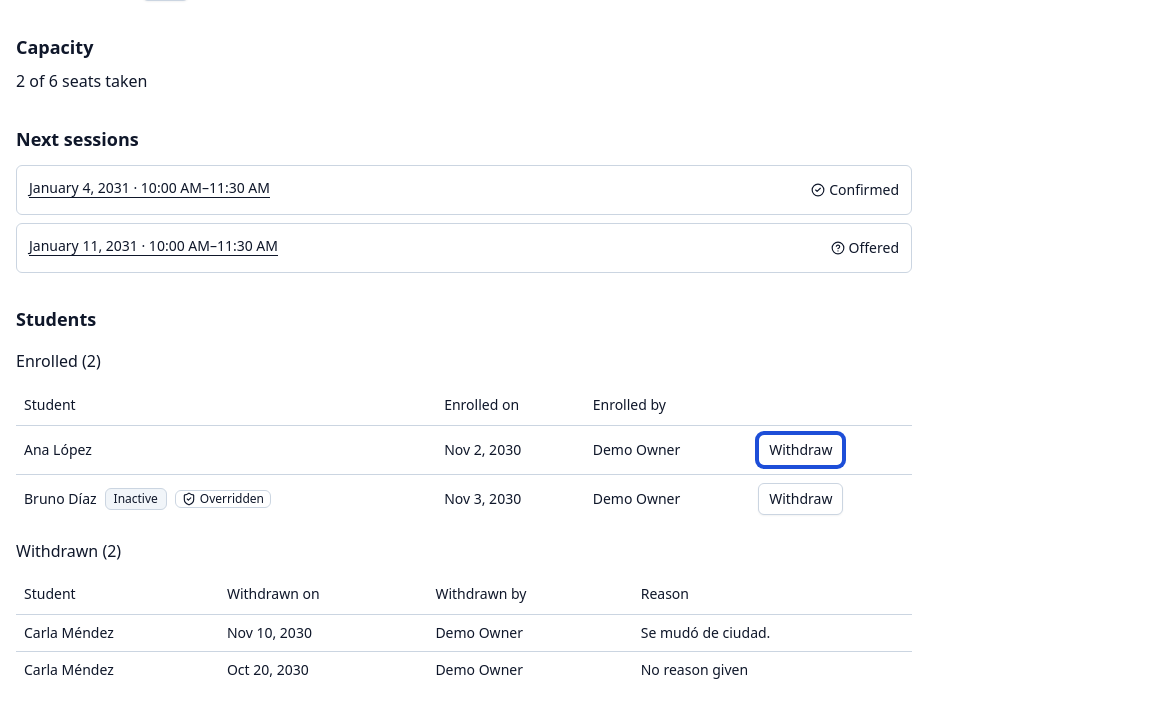
Test: the dialogs (D) › moves the focus to the notice after a withdrawal, as the row moves
(page scrolled)
Click the button "Withdraw" in the row of "Ana López". click: (801, 450)
box: [758,434,844,466]
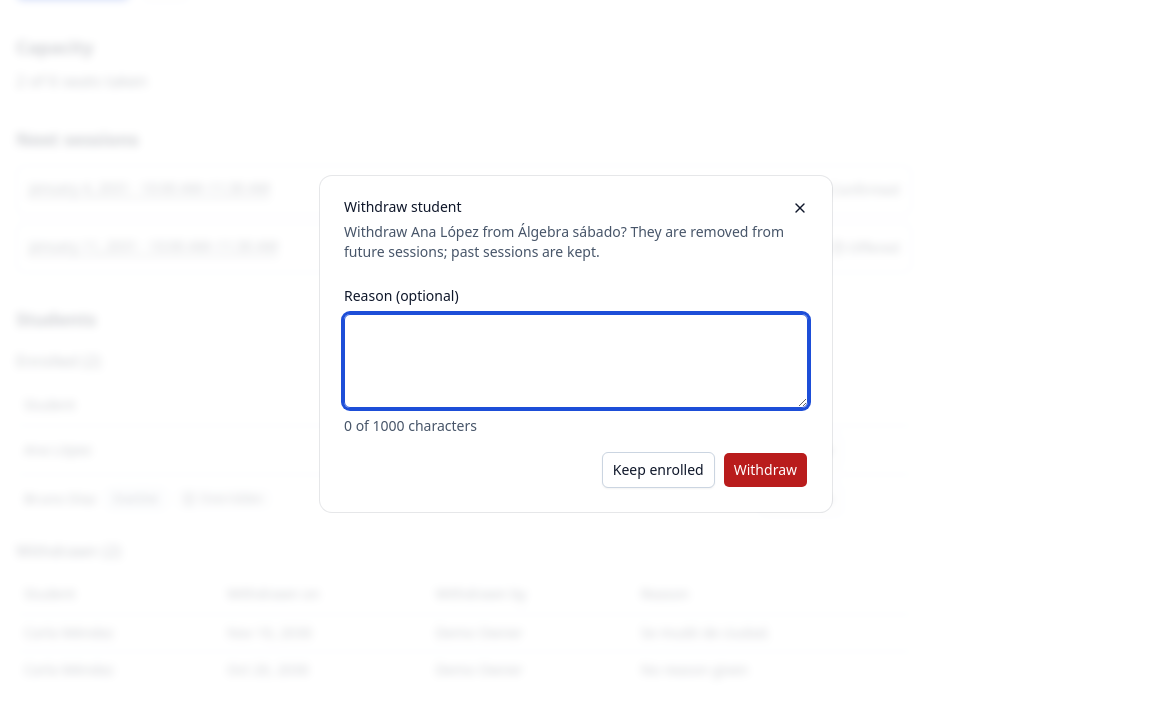
Click the button "Withdraw". click: (765, 470)
box: [723,452,808,488]
(page scrolled)
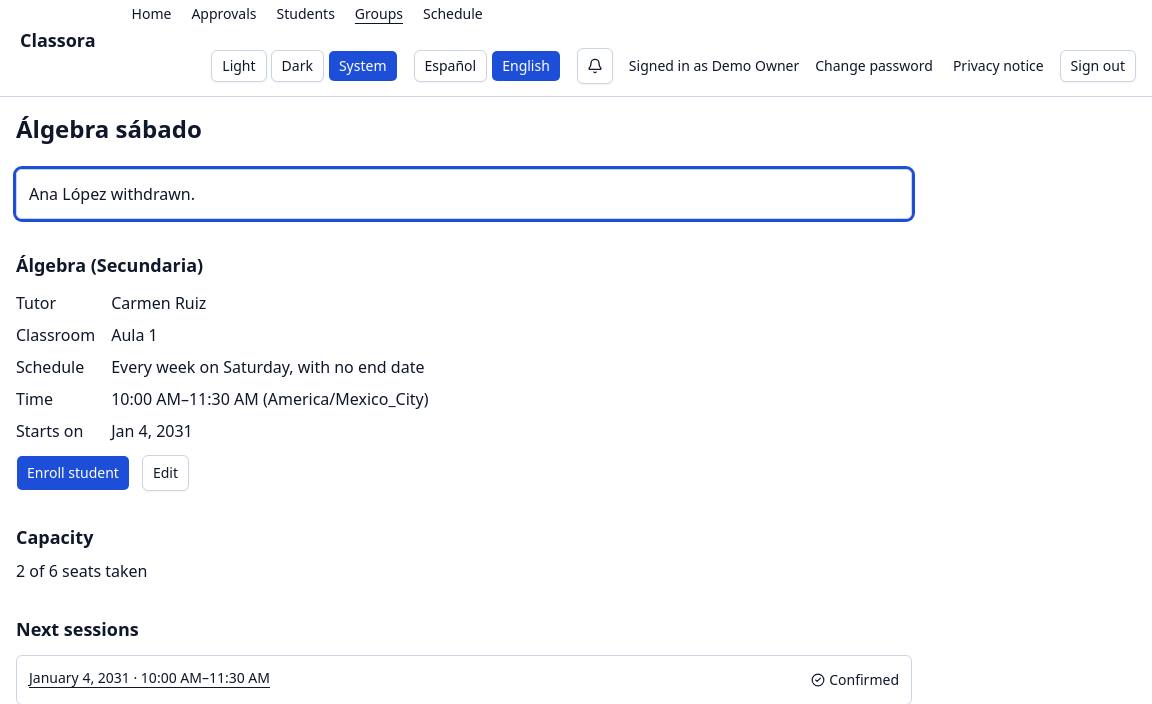
Expected: the dialog is gone
Expected: the message "Ana López withdrawn." is shown, [16,169,912,219]
